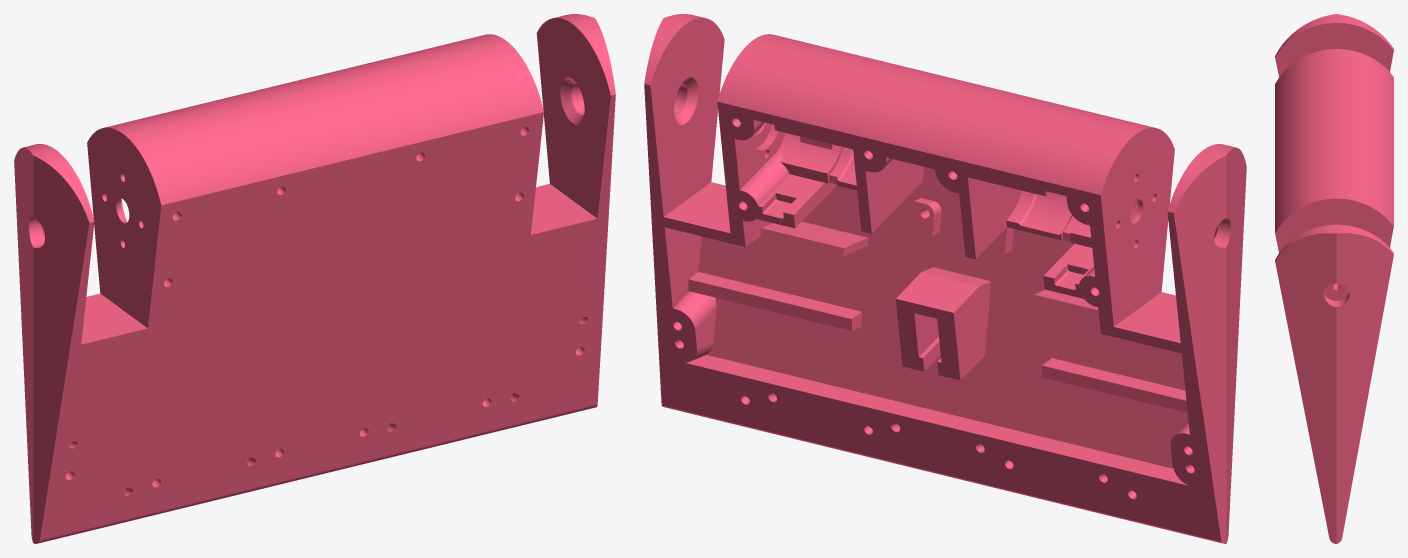
The model's file is Mr_Stabs_Mk2_Chassis.gltf.
The picture shows the model from 3 angles, left to right: view 1: azimuth 30°, elevation 25°; view 2: azimuth 150°, elevation 25°; view 3: azimuth 270°, elevation 25°; orthographic projection. The views are drawn at different scales.
Visible parts, largest first — view 1: mesh4757, mesh4604, mesh4625, mesh4790, mesh4622, mesh4626, mesh4618, mesh4606, mesh4605, mesh4617, mesh4619; view 2: mesh4796, mesh4575, mesh4604, mesh4626, mesh4790, mesh4622, mesh4584, mesh4625, mesh4808, mesh4733, mesh4702, mesh4800 (+21 smaller); view 3: mesh4604, mesh4620, mesh4621, mesh4779, mesh4627, mesh4617, mesh4619.
Part boxes in pixels (x1,y1,x2,y2): mesh4757: [40, 94, 615, 539]; mesh4604: [105, 34, 543, 205]; mesh4625: [33, 155, 89, 543]; mesh4790: [87, 127, 161, 327]; mesh4622: [536, 18, 610, 218]; mesh4626: [14, 147, 33, 542]; mesh4618: [38, 404, 597, 543]; mesh4606: [81, 293, 147, 344]; mesh4605: [531, 184, 596, 234]; mesh4617: [555, 14, 615, 95]; mesh4619: [23, 144, 94, 222]; mesh4796: [698, 167, 1188, 468]; mesh4575: [644, 84, 1220, 539]; mesh4604: [717, 34, 1154, 194]; mesh4626: [1174, 156, 1226, 543]; mesh4790: [1100, 127, 1174, 326]; mesh4622: [650, 17, 724, 216]; mesh4584: [685, 355, 1187, 485]; mesh4625: [1226, 147, 1246, 542]; mesh4808: [895, 299, 960, 380]; mesh4733: [968, 177, 1022, 258]; mesh4702: [865, 159, 923, 233]; mesh4800: [953, 281, 991, 380]; mesh4604: [1275, 49, 1393, 233]; mesh4620: [1275, 233, 1336, 543]; mesh4621: [1336, 233, 1393, 543]; mesh4779: [1275, 198, 1393, 300]; mesh4627: [1275, 23, 1393, 77]; mesh4617: [1275, 224, 1393, 261]; mesh4619: [1275, 14, 1393, 57].
Size of the model in its own units: 0.16 by 0.1055 by 0.0366.
